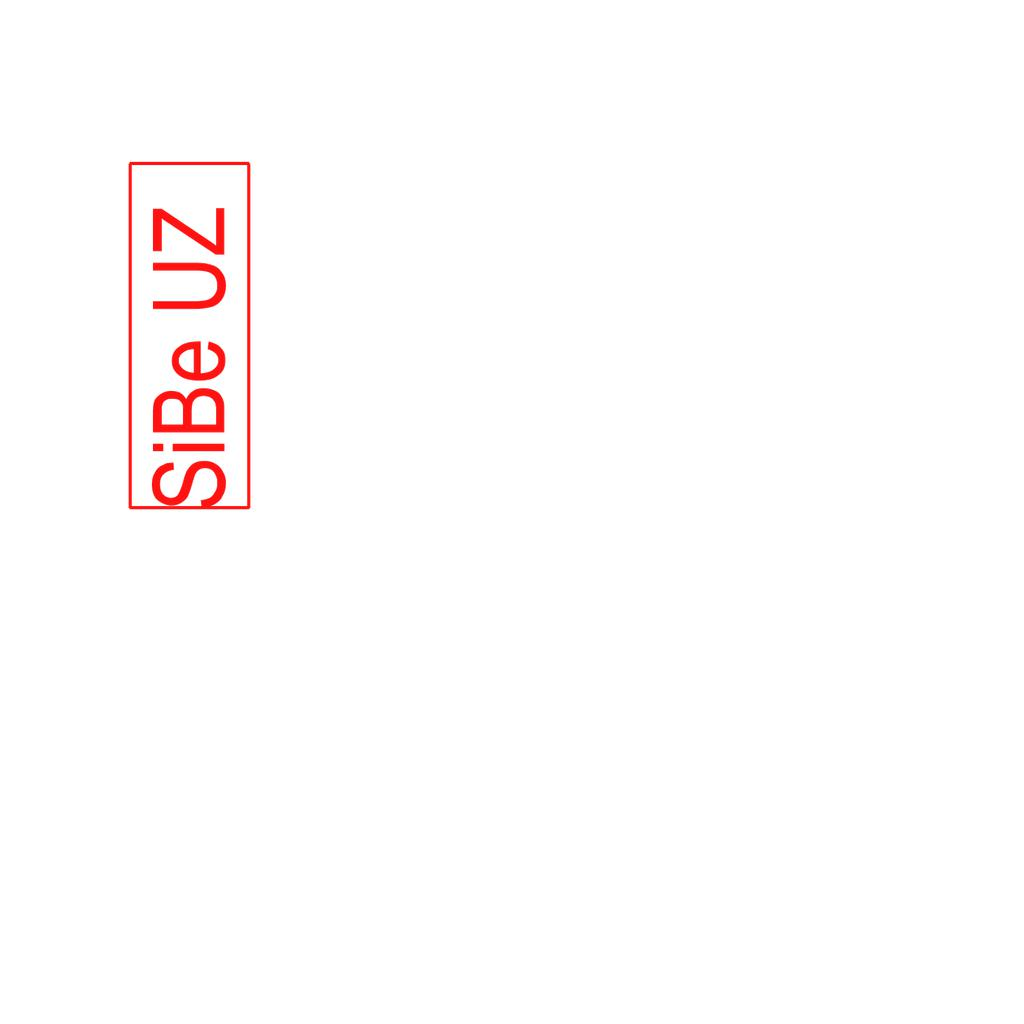Zentrale_Sicherheitsbeleuchtung: (125, 156, 255, 513)
